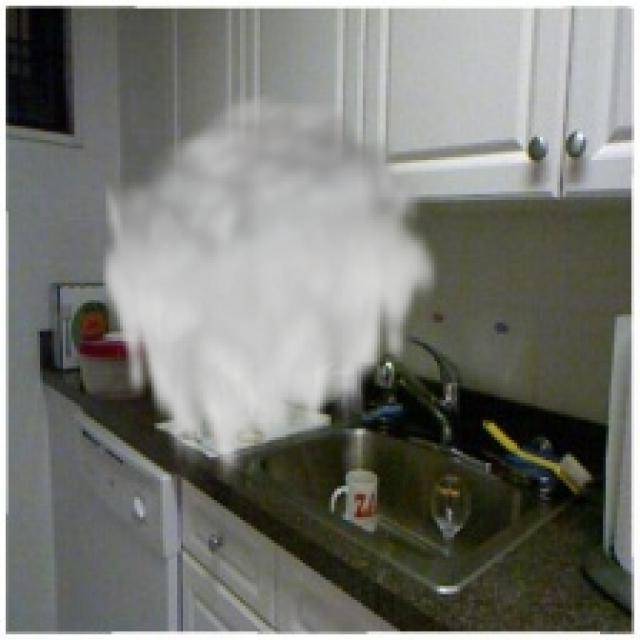Smoke: (97, 86, 443, 492)
